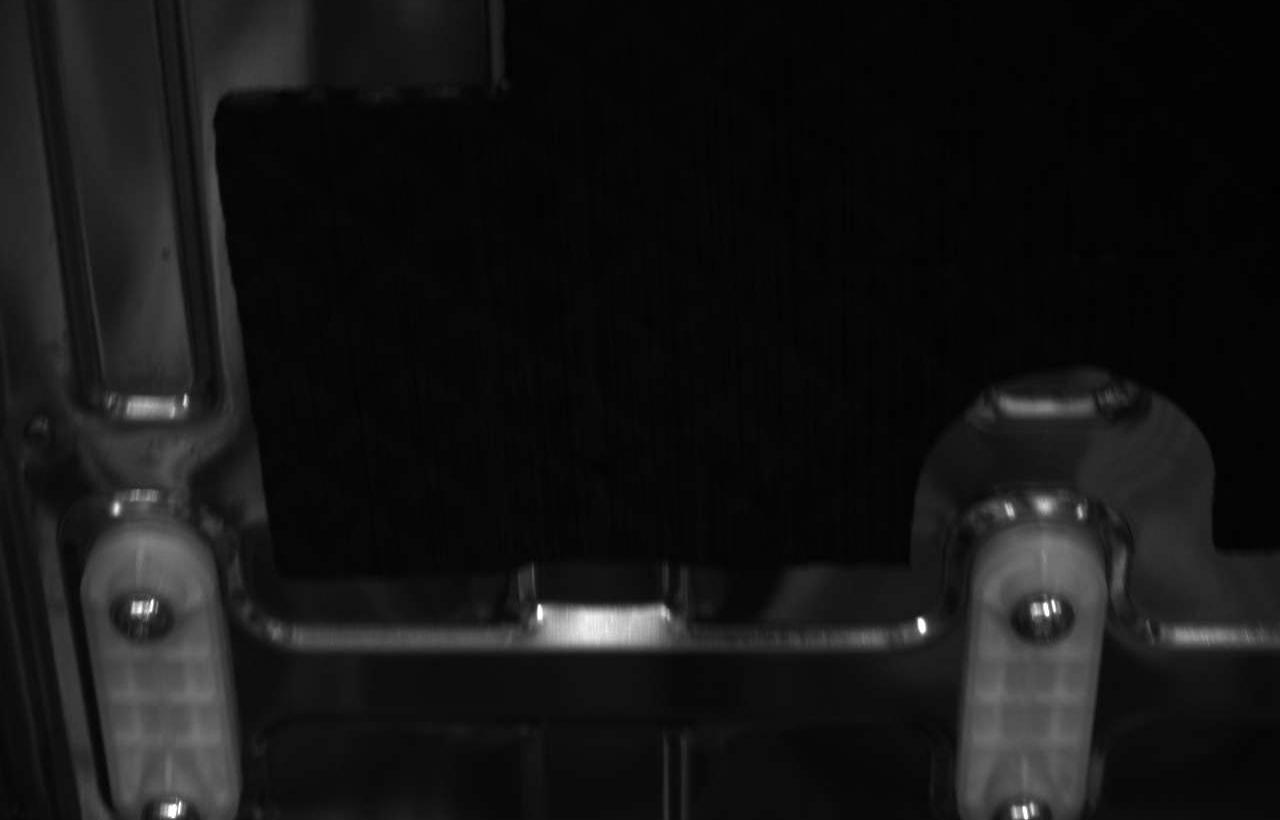vida-ok: (109, 584, 180, 651), (1014, 587, 1081, 654), (989, 783, 1055, 820), (142, 788, 208, 820)
